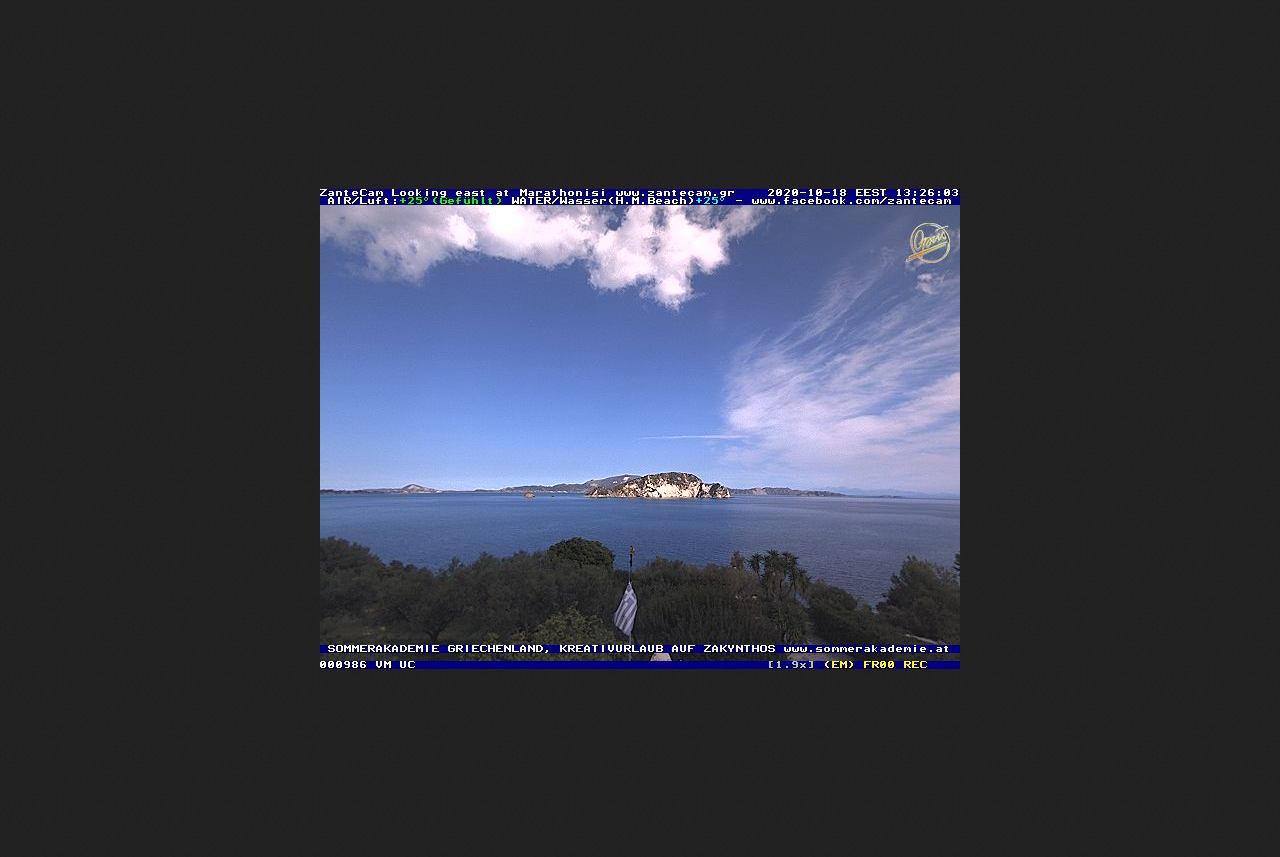no: (613, 581, 639, 637)
